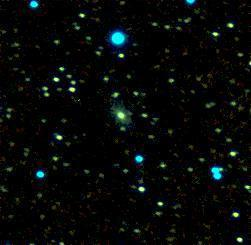star: (206, 153, 236, 183)
